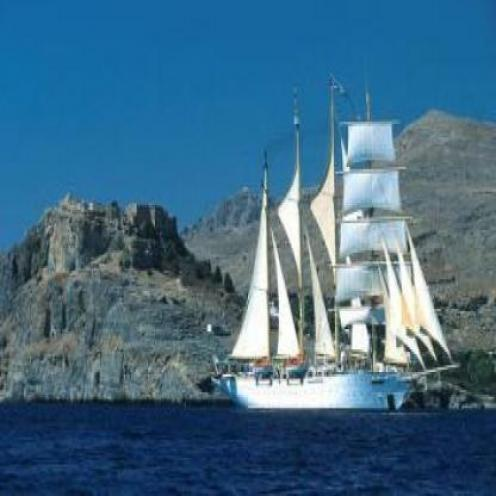Ship: (209, 126, 464, 420)
